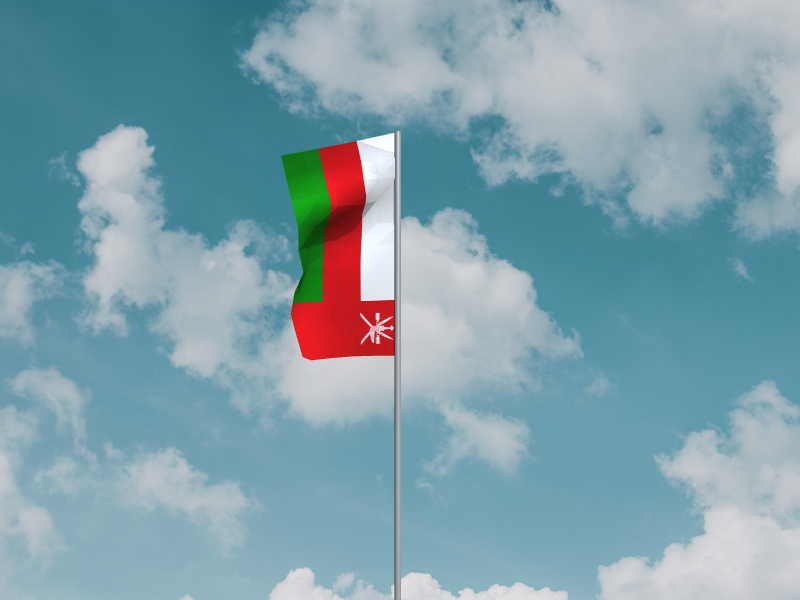om: (281, 134, 395, 361)
